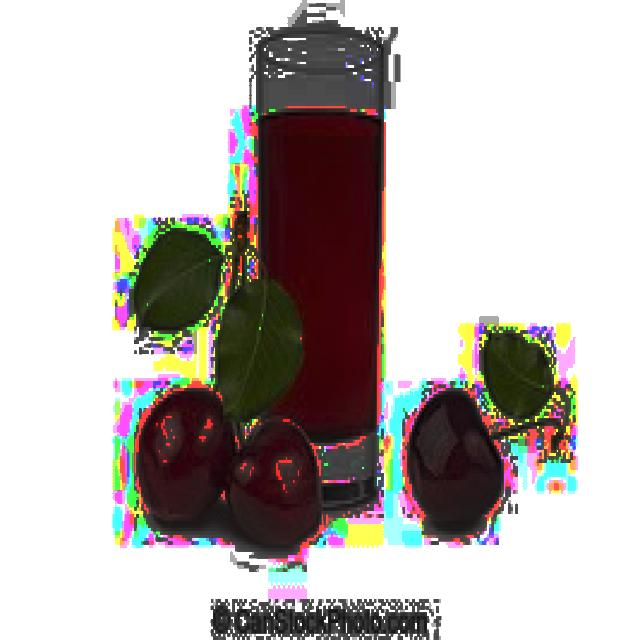drink: (254, 21, 391, 510)
